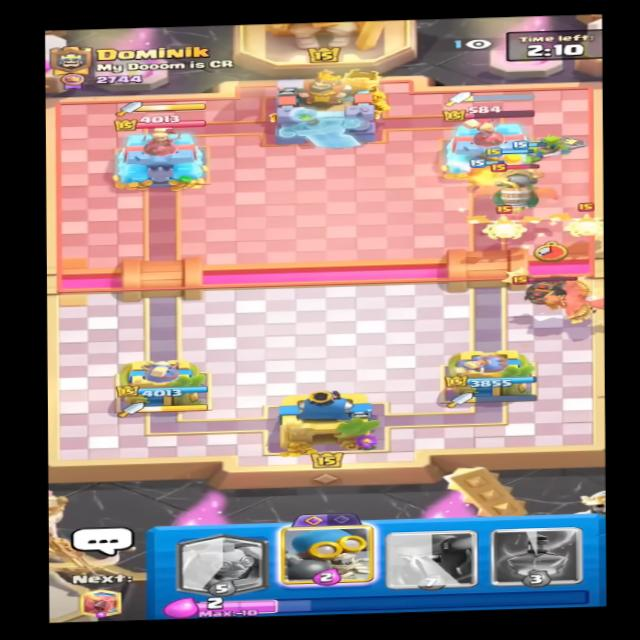inferno-dragon: (488, 163, 550, 226)
lava-hound: (507, 269, 584, 315)
skeleton-dragon: (464, 205, 538, 246), (552, 198, 615, 241)
